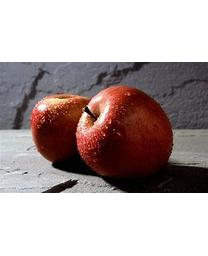apple: (75, 86, 174, 178), (31, 94, 92, 164)
